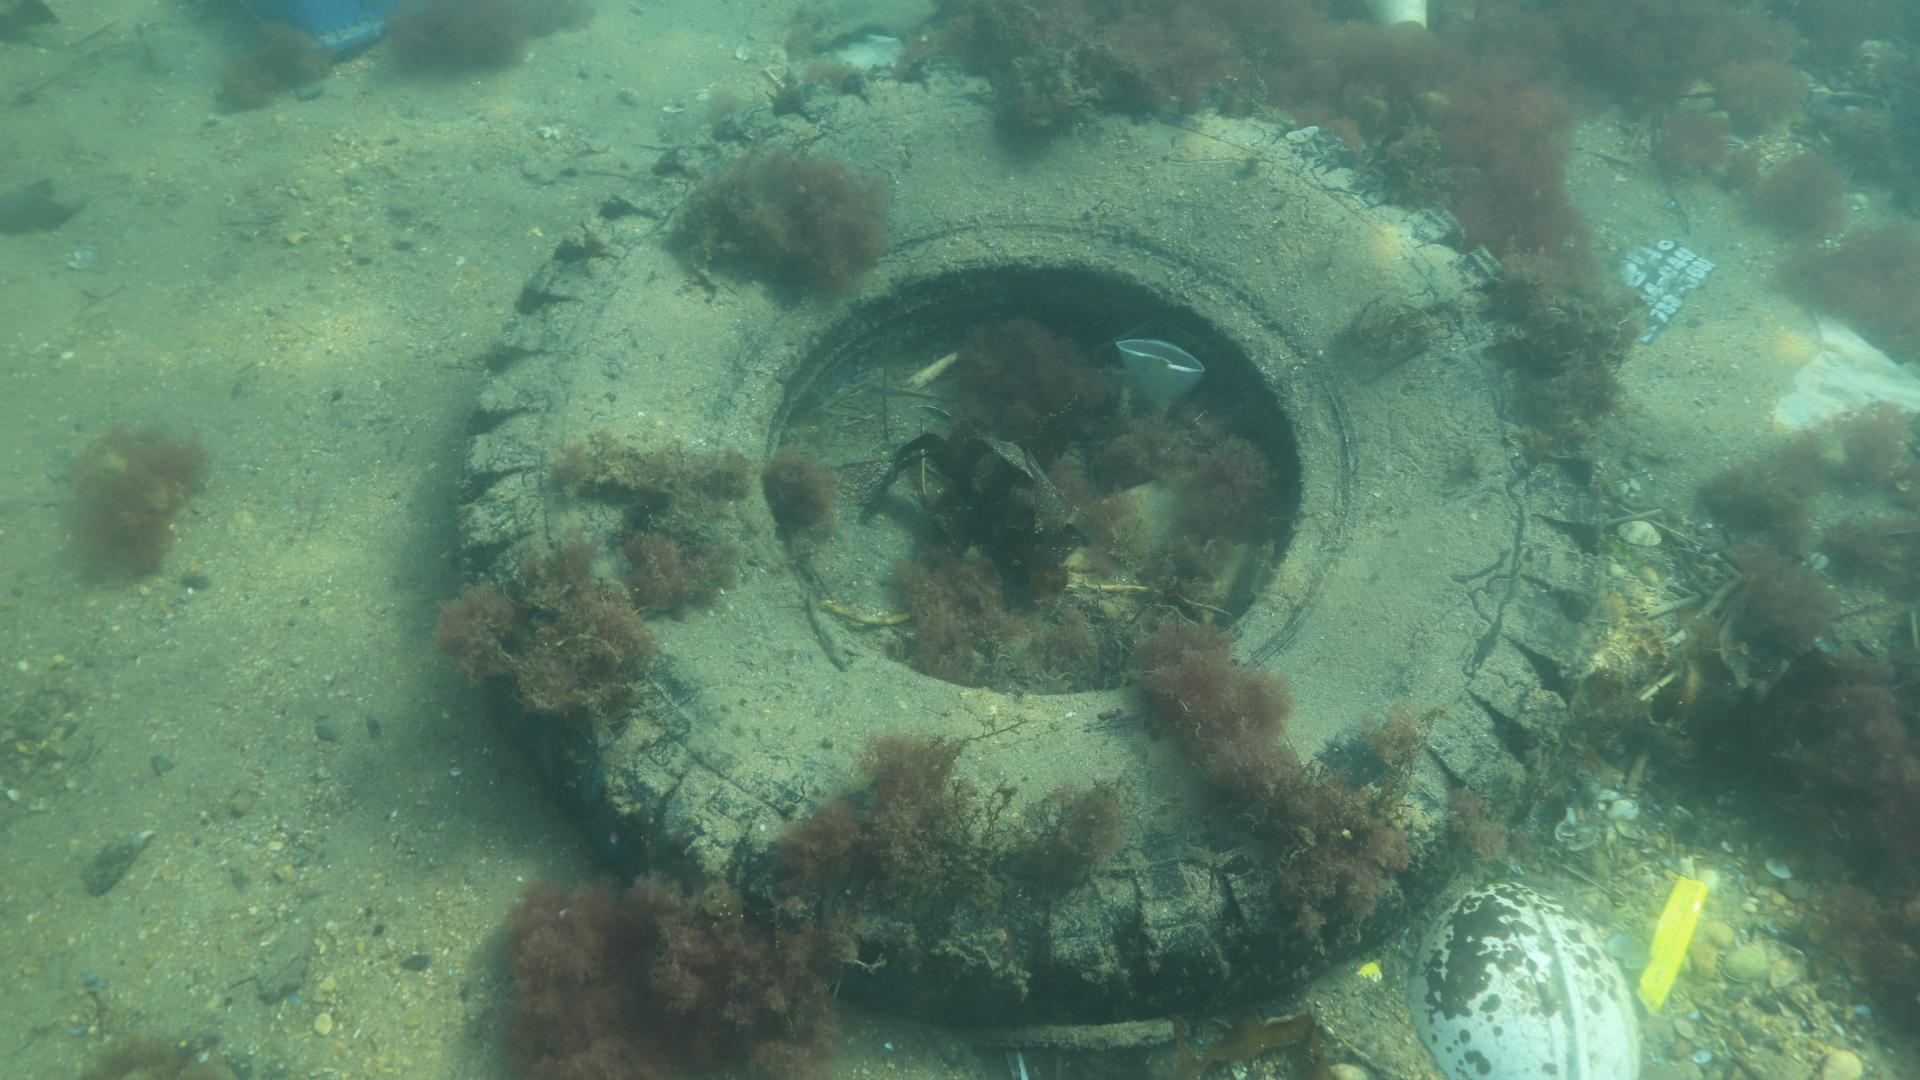tire: (448, 59, 1597, 1025)
